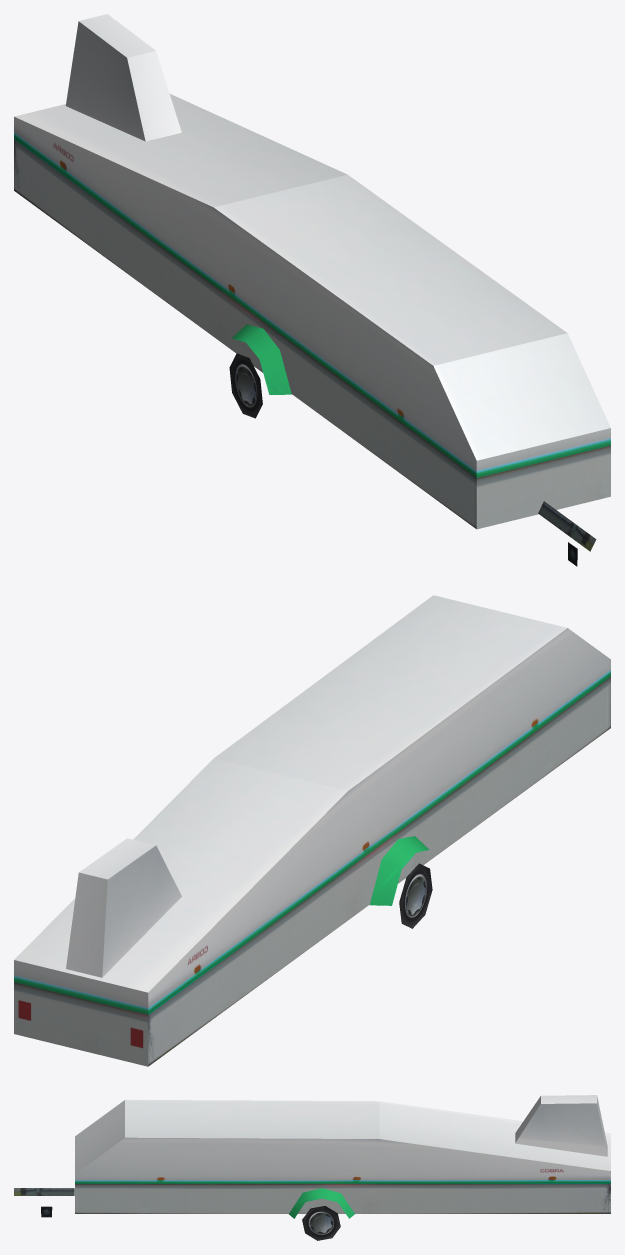
The model's file is glider-trailer-green-9m-cbj_LOD03.gltf.
3 views of the same model, one above another, from view 1: azimuth 30°, elevation 25°; view 2: azimuth 150°, elevation 25°; view 3: azimuth 270°, elevation 25° (orthographic). The views are drawn at different scales.
Visible parts, largest first — view 1: trailer03; view 2: trailer03; view 3: trailer03.
Part boxes in pixels (left/top/right/bottom): trailer03: left=14, top=14, right=610, bottom=566; trailer03: left=14, top=595, right=610, bottom=1066; trailer03: left=14, top=1095, right=610, bottom=1240.
Size of the model in its own units: 1.71 by 1.97 by 9.
